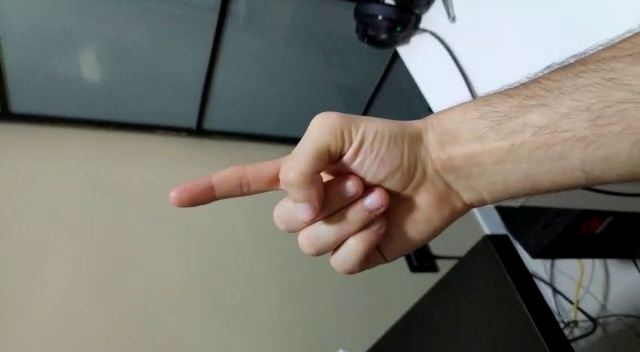One: (168, 112, 425, 278)
